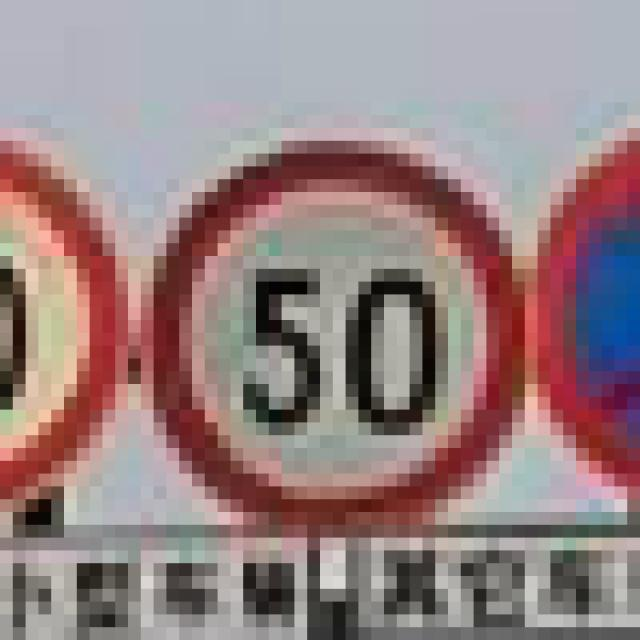Limite-50: (143, 137, 534, 535)
